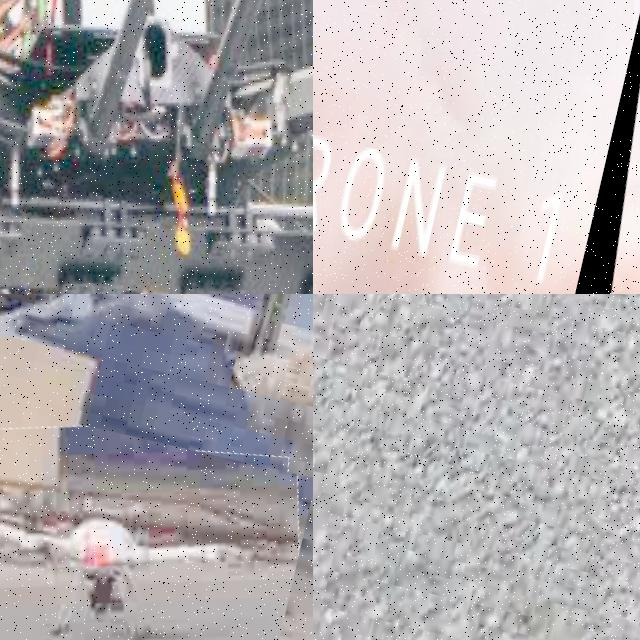0: (0, 387, 313, 640)
drone: (0, 0, 313, 294), (540, 0, 640, 294)
